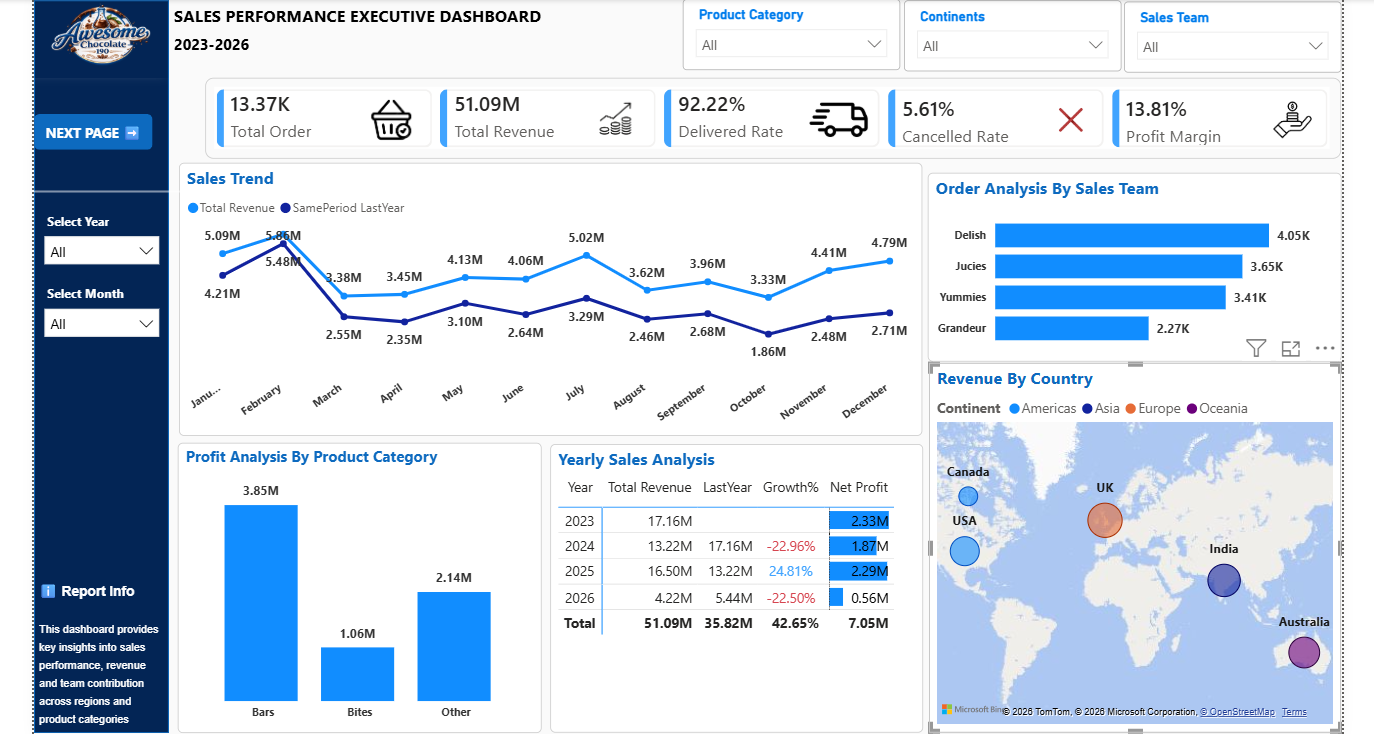

This screenshot's page, from the dashboard's own definition file:
{"tool":"powerbi","page":{"name":"EXECUTIVE OVERVIEW","canvas":[1280,720],"ordinal":0},"visuals":[{"type":"shape","box":[0,1,132,717],"z":0},{"type":"cardVisual","fields":{"Data":["2 Order Analysis Measures.Total Order","1 Sales Analysis Measures.Total Revenue","2 Order Analysis Measures.Delivered%","2 Order Analysis Measures.Cancelled%","1 Sales Analysis Measures.Profit%"]},"box":[168,77,1111,79],"z":1000},{"type":"image","box":[0,0,132,77],"z":2000},{"type":"textbox","box":[132,0,396,49],"z":3000},{"type":"clusteredBarChart","title":"Order Analysis By Sales Team","fields":{"Category":["SalesPerson_Table.Team"],"Y":["2 Order Analysis Measures.Total Order"]},"box":[874,170,405,185],"z":4000},{"type":"slicer","fields":{"Values":["Product_Table.Category"]},"box":[634.7,0,212.8,69.7],"z":5000},{"type":"clusteredColumnChart","title":"Profit Analysis By Product Category","fields":{"Category":["Product_Table.Category"],"Y":["1 Sales Analysis Measures.Net Profit"]},"box":[140.6,434.1,355.8,283.7],"z":6000},{"type":"textbox","box":[132,29,116,32],"z":8000},{"type":"slicer","fields":{"Values":["Date_Table.Date.Variation.Date Hierarchy.Year"]},"box":[0,204.2,132.1,69.7],"z":9000},{"type":"slicer","fields":{"Values":["Date_Table.Date.Variation.Date Hierarchy.Month"]},"box":[0,275.1,132.1,68.5],"z":10000},{"type":"textbox","box":[0,564.9,132.1,152.9],"z":11000},{"type":"slicer","fields":{"Values":["Geography_Table.Continent"]},"box":[851.1,1.2,212.8,69.7],"z":12000},{"type":"slicer","fields":{"Values":["SalesPerson_Table.Team"]},"box":[1066.3,2.4,212.8,69.7],"z":13000},{"type":"lineChart","title":"Sales Trend","fields":{"Category":["Date_Table.Date.Variation.Date Hierarchy.Year","Date_Table.Date.Variation.Date Hierarchy.Quarter","Date_Table.Date.Variation.Date Hierarchy.Month","Date_Table.Date.Variation.Date Hierarchy.Day"],"Y":["1 Sales Analysis Measures.Total Revenue","6 Time Intelligence Measures.SamePeriod LastYear"]},"box":[142,160,727,267],"z":14000},{"type":"map","title":"Revenue By Country","fields":{"Category":["Geography_Table.Country"],"Series":["Geography_Table.Continent"],"Size":["1 Sales Analysis Measures.Total Revenue"]},"box":[875.5,359.5,403.5,358.3],"z":15000},{"type":"pivotTable","title":"Yearly Sales Analysis","fields":{"Rows":["Date_Table.Date.Variation.Date Hierarchy.Year"],"Values":["1 Sales Analysis Measures.Total Revenue","6 Time Intelligence Measures.SamePeriod LastYear","6 Time Intelligence Measures.YOYGrowth%","1 Sales Analysis Measures.Net Profit"]},"box":[505,435.3,364.4,282.5],"z":16000},{"type":"actionButton","box":[0,113,116,35],"z":17000},{"type":"shape","box":[0,182.2,154.1,12.2],"z":19000}]}

Visuals, with their boxes on the page's 1280x720 design canvas (x1, y1, x2, y2). These are canvas units, not pixel positions in the 1374x734 screenshot, which may show the page scaled, cropped or inside an application window:
shape: bbox=(0, 1, 132, 718)
cardVisual - 2 Order Analysis Measures.Total Order x 1 Sales Analysis Measures.Total Revenue: bbox=(168, 77, 1279, 156)
image: bbox=(0, 0, 132, 77)
textbox: bbox=(132, 0, 528, 49)
"Order Analysis By Sales Team" clusteredBarChart: bbox=(874, 170, 1279, 355)
slicer - Product_Table.Category: bbox=(635, 0, 848, 70)
"Profit Analysis By Product Category" clusteredColumnChart: bbox=(141, 434, 496, 718)
textbox: bbox=(132, 29, 248, 61)
slicer - Date_Table.Date.Variation.Date Hierarchy.Year: bbox=(0, 204, 132, 274)
slicer - Date_Table.Date.Variation.Date Hierarchy.Month: bbox=(0, 275, 132, 344)
textbox: bbox=(0, 565, 132, 718)
slicer - Geography_Table.Continent: bbox=(851, 1, 1064, 71)
slicer - SalesPerson_Table.Team: bbox=(1066, 2, 1279, 72)
"Sales Trend" lineChart: bbox=(142, 160, 869, 427)
"Revenue By Country" map: bbox=(876, 360, 1279, 718)
"Yearly Sales Analysis" pivotTable: bbox=(505, 435, 869, 718)
actionButton: bbox=(0, 113, 116, 148)
shape: bbox=(0, 182, 154, 194)
